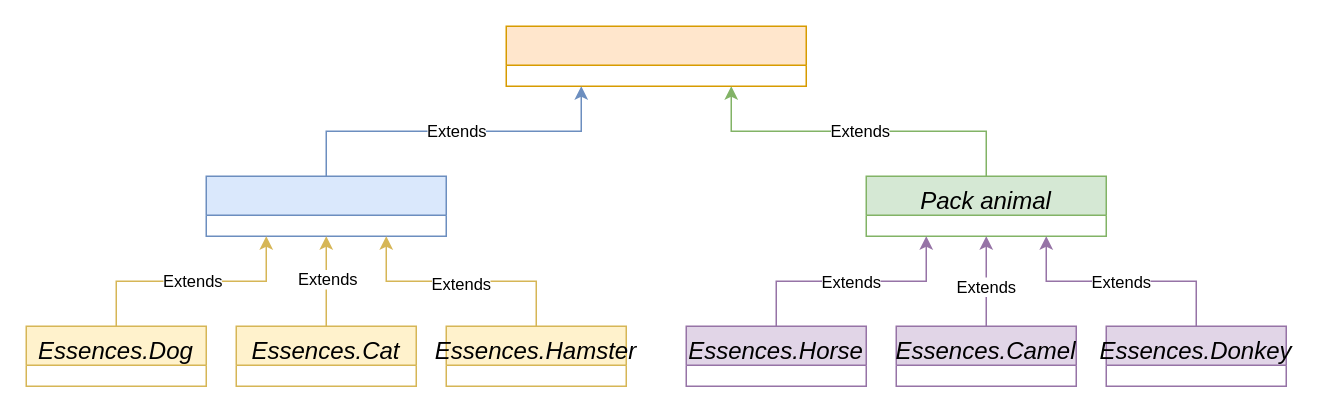
Image size: 1320x413. Some labels were removed from this diagram. The centre of each missing label's shape, as x and y in pixels:
Essences.Animal: point (655, 55)
Essences.Pet: point (325, 205)
